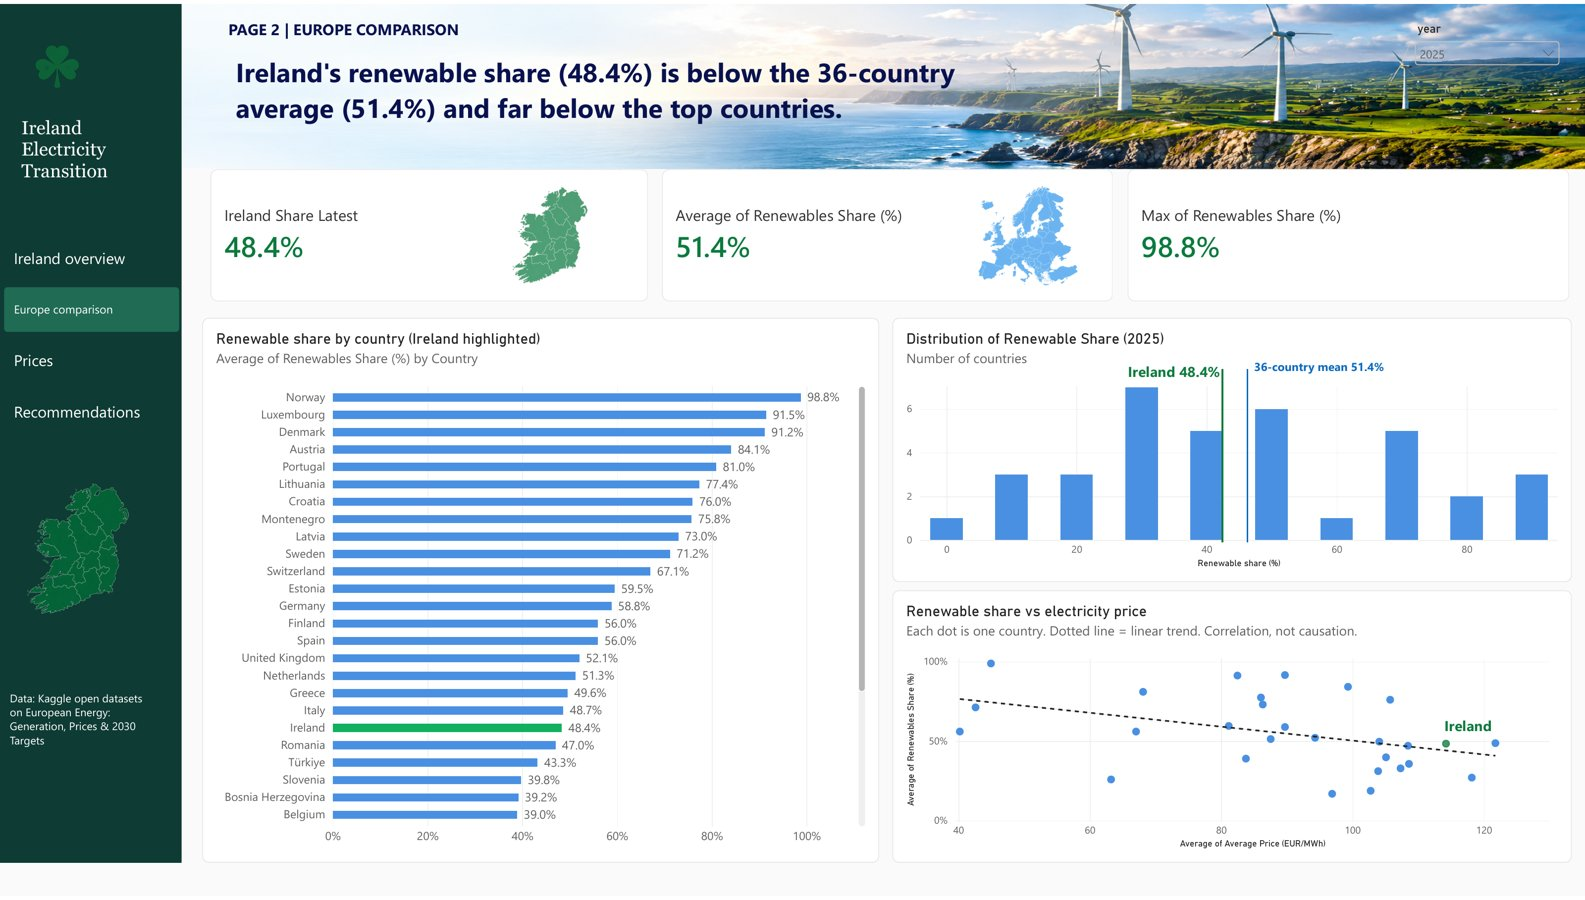

This screenshot's page, from the dashboard's own definition file:
{"tool":"powerbi","page":{"name":"Europe comparison","canvas":[1920,1080],"ordinal":1},"visuals":[{"type":"image","box":[220.8,0,1699.2,199.9],"z":0},{"type":"clusteredColumnChart","title":"Distribution of Renewable Share (2025)","fields":{"Category":["Yearly Generation.Share Bin"],"Y":["CountNonNull(Yearly Generation.Country)"]},"box":[1081,380,823,320],"z":1000},{"type":"clusteredBarChart","title":"Renewable share by country (Ireland highlighted)","fields":{"Category":["Yearly Generation.Country"],"Y":["Avg(Yearly Generation.Renewables Share (%))"]},"box":[245,380,820,660],"z":2000},{"type":"scatterChart","title":"Renewable share vs electricity price","fields":{"Category":["Country Scatter.Country"],"X":["Avg(Country Scatter.Average Price (EUR/MWh))"],"Y":["Avg(Country Scatter.Renewables Share (%))"]},"box":[1081,710,823,330],"z":3000},{"type":"cardVisual","fields":{"Data":["Key Measures.Ireland Share Latest"]},"box":[255,200,530,160],"z":4000},{"type":"cardVisual","fields":{"Data":["Avg(Yearly Generation.Renewables Share (%))"]},"box":[802,200,546,160],"z":5000},{"type":"cardVisual","fields":{"Data":["Max(Yearly Generation.Renewables Share (%))"]},"box":[1366,200,535,160],"z":6000},{"type":"shape","box":[0,0,220,1040],"z":7000},{"type":"textbox","box":[20,520,180,140],"z":8000},{"type":"pageNavigator","box":[5,281,212,241],"z":9000},{"type":"actionButton","box":[14,131,171,121],"z":10000},{"type":"slicer","fields":{"Values":["Years.year"]},"box":[1709.1,21.7,185,70],"z":15000},{"type":"actionButton","box":[265,12,1100,35],"z":16000},{"type":"actionButton","box":[274.1,45.7,910.1,117],"z":17000},{"type":"shape","box":[1456.2,442.1,49.5,210.2],"z":18000},{"type":"shape","box":[1488,442.1,46.4,210.2],"z":19000},{"type":"actionButton","box":[1322,426.7,201,34],"z":20000},{"type":"actionButton","box":[1448,423.6,299.9,30.9],"z":21000},{"type":"actionButton","box":[1737.7,856.4,129.8,27.5],"z":22000},{"type":"image","box":[27.5,45.8,84.7,59.5],"z":23000},{"type":"image","box":[16,567.5,164.8,180.8],"z":24000},{"type":"image","box":[608.7,215.1,121.3,128.2],"z":25000},{"type":"image","box":[1185.4,215.1,121.3,128.2],"z":26000},{"type":"actionButton","box":[0,825.5,197.9,102],"z":27000}]}

Visuals, with their boxes on the page's 1920x1080 design canvas (x1, y1, x2, y2). These are canvas units, not pixel positions in the 1585x900 screenshot, which may show the page scaled, cropped or inside an application window:
image: {"left": 221, "top": 0, "right": 1920, "bottom": 200}
"Distribution of Renewable Share (2025)" clusteredColumnChart: {"left": 1081, "top": 380, "right": 1904, "bottom": 700}
"Renewable share by country (Ireland highlighted)" clusteredBarChart: {"left": 245, "top": 380, "right": 1065, "bottom": 1040}
"Renewable share vs electricity price" scatterChart: {"left": 1081, "top": 710, "right": 1904, "bottom": 1040}
cardVisual - Key Measures.Ireland Share Latest: {"left": 255, "top": 200, "right": 785, "bottom": 360}
cardVisual - Avg(Yearly Generation.Renewables Share (%)): {"left": 802, "top": 200, "right": 1348, "bottom": 360}
cardVisual - Max(Yearly Generation.Renewables Share (%)): {"left": 1366, "top": 200, "right": 1901, "bottom": 360}
shape: {"left": 0, "top": 0, "right": 220, "bottom": 1040}
textbox: {"left": 20, "top": 520, "right": 200, "bottom": 660}
pageNavigator: {"left": 5, "top": 281, "right": 217, "bottom": 522}
actionButton: {"left": 14, "top": 131, "right": 185, "bottom": 252}
slicer - Years.year: {"left": 1709, "top": 22, "right": 1894, "bottom": 92}
actionButton: {"left": 265, "top": 12, "right": 1365, "bottom": 47}
actionButton: {"left": 274, "top": 46, "right": 1184, "bottom": 163}
shape: {"left": 1456, "top": 442, "right": 1506, "bottom": 652}
shape: {"left": 1488, "top": 442, "right": 1534, "bottom": 652}
actionButton: {"left": 1322, "top": 427, "right": 1523, "bottom": 461}
actionButton: {"left": 1448, "top": 424, "right": 1748, "bottom": 454}
actionButton: {"left": 1738, "top": 856, "right": 1868, "bottom": 884}
image: {"left": 28, "top": 46, "right": 112, "bottom": 105}
image: {"left": 16, "top": 568, "right": 181, "bottom": 748}
image: {"left": 609, "top": 215, "right": 730, "bottom": 343}
image: {"left": 1185, "top": 215, "right": 1307, "bottom": 343}
actionButton: {"left": 0, "top": 826, "right": 198, "bottom": 928}
